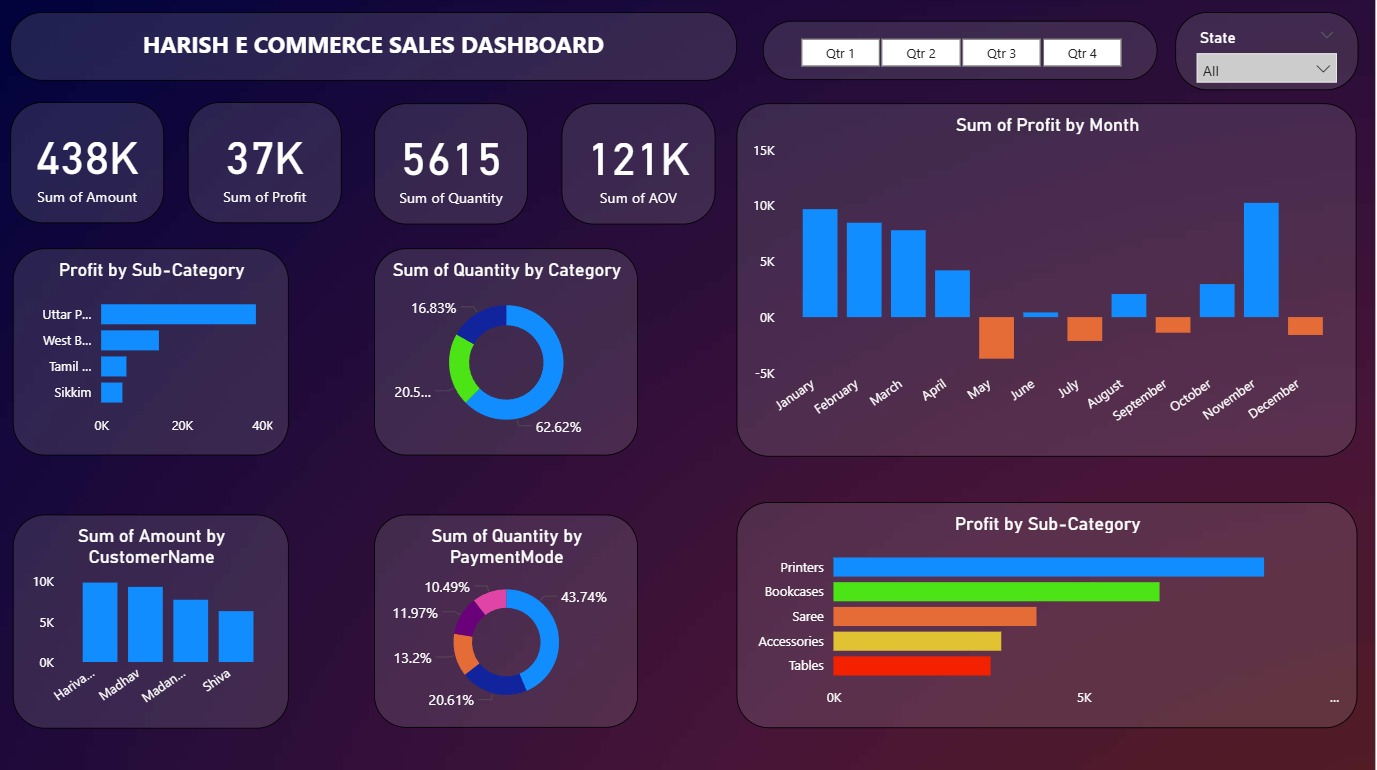

This screenshot's page, from the dashboard's own definition file:
{"tool":"powerbi","page":{"name":"Page 1","canvas":[1280,720],"ordinal":0},"visuals":[{"type":"textbox","box":[10,14.3,675.7,64.3],"z":0},{"type":"columnChart","fields":{"Category":["Orders.Order Date.Variation.Date Hierarchy.Month"],"Y":["Sum(Details.Profit)"]},"box":[685.7,98.6,577.1,328.6],"z":1000},{"type":"barChart","title":" Profit by Sub-Category","fields":{"Category":["Details.Sub-Category"],"Y":["Sum(Details.Profit)"]},"box":[686.2,470,577.5,210],"z":2000},{"type":"donutChart","fields":{"Category":["Details.Category"],"Y":["Sum(Details.Quantity)"]},"box":[348.6,234.3,245.7,192.9],"z":3000},{"type":"donutChart","fields":{"Y":["Sum(Details.Quantity)"],"Category":["Details.PaymentMode"]},"box":[348.6,481.4,245.7,198.6],"z":4000},{"type":"card","fields":{"Values":["Sum(Details.Amount)"]},"box":[10,97.1,142.9,112.9],"z":5000},{"type":"card","fields":{"Values":["Sum(Details.Profit)"]},"box":[175.7,97.1,142.9,112.9],"z":6000},{"type":"card","fields":{"Values":["Sum(Details.Quantity)"]},"box":[348.6,98.6,142.9,112.9],"z":7000},{"type":"card","fields":{"Values":["Sum(Details.AOV)"]},"box":[522.9,98.6,142.9,112.9],"z":8000},{"type":"barChart","title":" Profit by Sub-Category","fields":{"Category":["Orders.State"],"Y":["Sum(Details.Amount)"]},"box":[12.9,234.3,257.1,192.9],"z":9000},{"type":"columnChart","fields":{"Category":["Orders.CustomerName"],"Y":["Sum(Details.Amount)"]},"box":[13,481,257,199],"z":10000},{"type":"slicer","fields":{"Values":["Orders.Order Date.Variation.Date Hierarchy.Quarter"]},"box":[710,22.5,367.5,55],"z":11000},{"type":"slicer","fields":{"Values":["Orders.State"]},"box":[1093.8,13.8,170,72.5],"z":12000}]}

Visuals, with their boxes in screenshot pixels (x1, y1, x2, y2), scaled from the page's 1280x720 canvas onto the 1377x770 screenshot:
textbox: <region>11, 15, 738, 84</region>
columnChart - Orders.Order Date.Variation.Date Hierarchy.Month x Sum(Details.Profit): <region>738, 105, 1358, 457</region>
" Profit by Sub-Category" barChart: <region>738, 503, 1359, 727</region>
donutChart - Details.Category x Sum(Details.Quantity): <region>375, 251, 639, 457</region>
donutChart - Sum(Details.Quantity) x Details.PaymentMode: <region>375, 515, 639, 727</region>
card - Sum(Details.Amount): <region>11, 104, 164, 225</region>
card - Sum(Details.Profit): <region>189, 104, 343, 225</region>
card - Sum(Details.Quantity): <region>375, 105, 529, 226</region>
card - Sum(Details.AOV): <region>563, 105, 716, 226</region>
" Profit by Sub-Category" barChart: <region>14, 251, 290, 457</region>
columnChart - Orders.CustomerName x Sum(Details.Amount): <region>14, 514, 290, 727</region>
slicer - Orders.Order Date.Variation.Date Hierarchy.Quarter: <region>764, 24, 1159, 83</region>
slicer - Orders.State: <region>1177, 15, 1360, 92</region>
